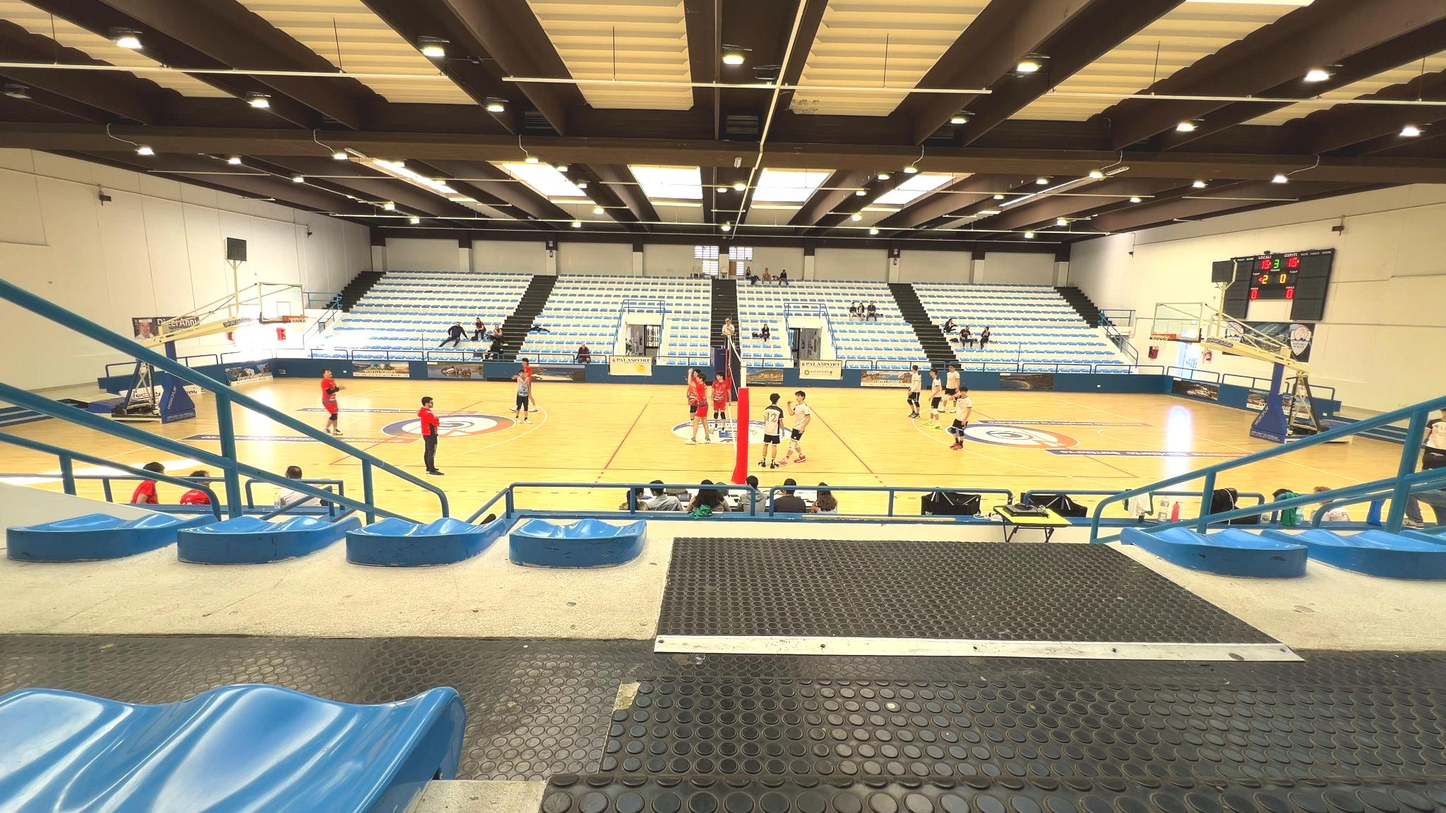volleyball court: (331, 399, 1141, 479)
